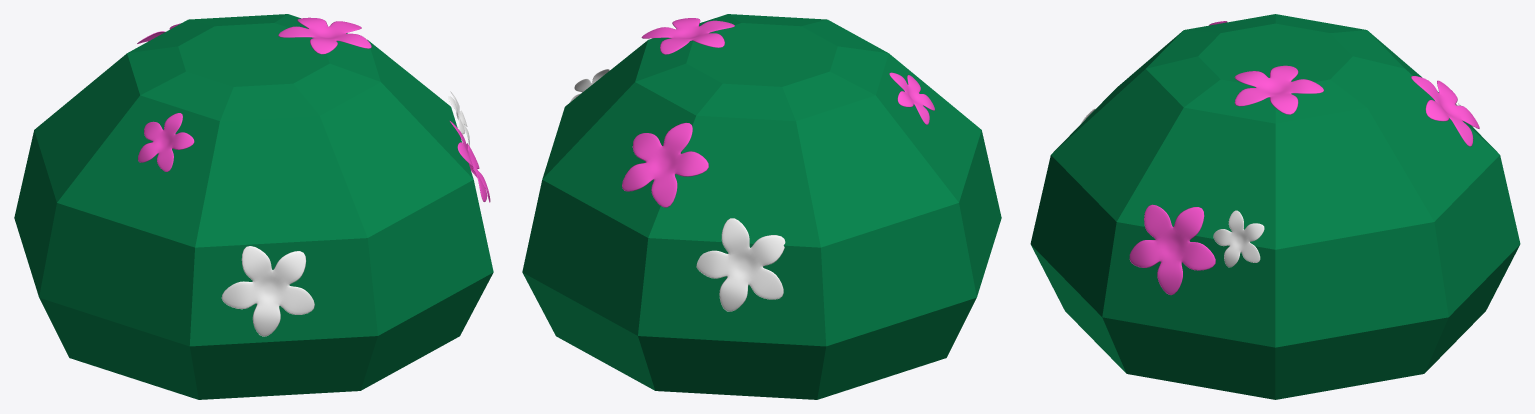
Rendered from M_bush4.fbx.
The picture shows the model from 3 angles, left to right: view 1: azimuth 30°, elevation 25°; view 2: azimuth 150°, elevation 25°; view 3: azimuth 270°, elevation 25°; orthographic projection.
Visible parts, largest first — view 1: Plane.004; view 2: Plane.004; view 3: Plane.004.
Part boxes in pixels (<box>): Plane.004: <box>14,14,493,399</box>; Plane.004: <box>522,14,1001,399</box>; Plane.004: <box>1030,14,1520,399</box>.
Size of the model in its own units: 189 by 112 by 189.
